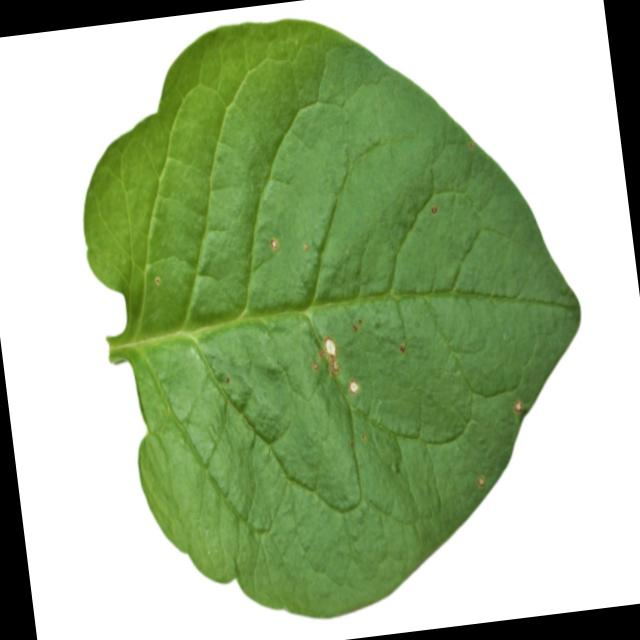Medicinal-Basale: (61, 0, 613, 640)
